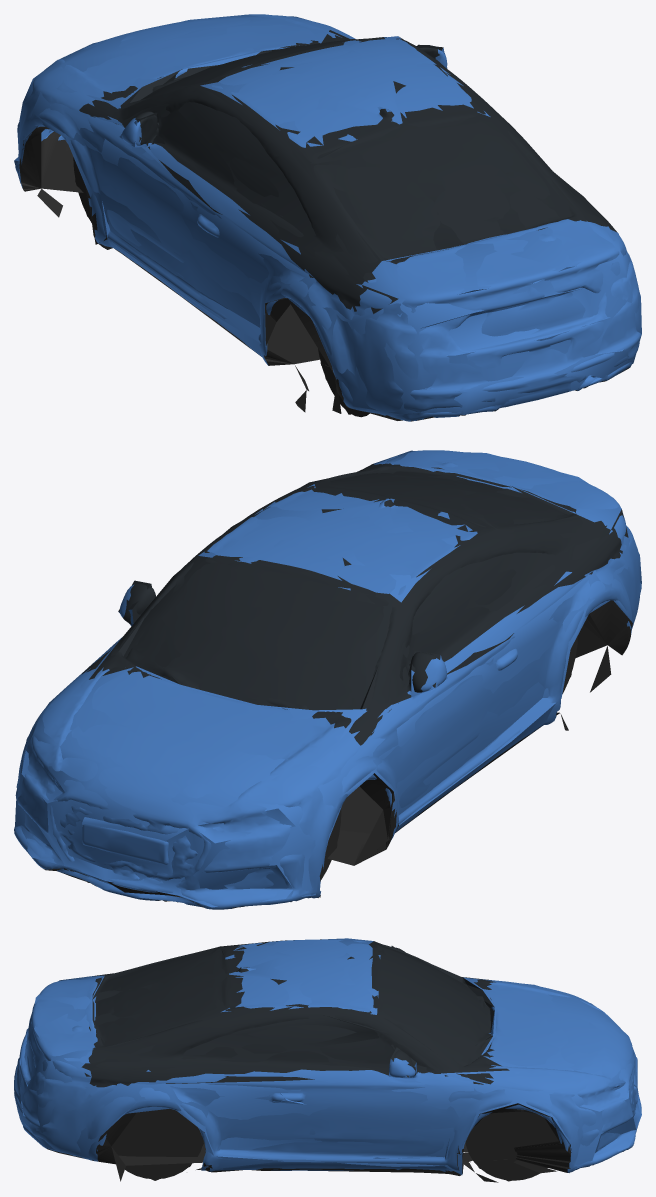
Rendered from audi-tt.glb.
The picture shows the model from 3 angles, top to bottom: view 1: azimuth 30°, elevation 25°; view 2: azimuth 150°, elevation 25°; view 3: azimuth 270°, elevation 25°; orthographic projection. The views are drawn at different scales.
Visible parts, largest first — view 1: body, far; view 2: body, far; view 3: body, far.
Boxes of the visible parts, x1,y1,x2,y2 form: body: [15, 14, 640, 421]; far: [14, 14, 641, 414]; body: [14, 450, 641, 909]; far: [15, 450, 641, 907]; body: [14, 939, 641, 1182]; far: [14, 938, 641, 1181].
Size of the model in its own units: 1.84 by 1.31 by 4.19.
